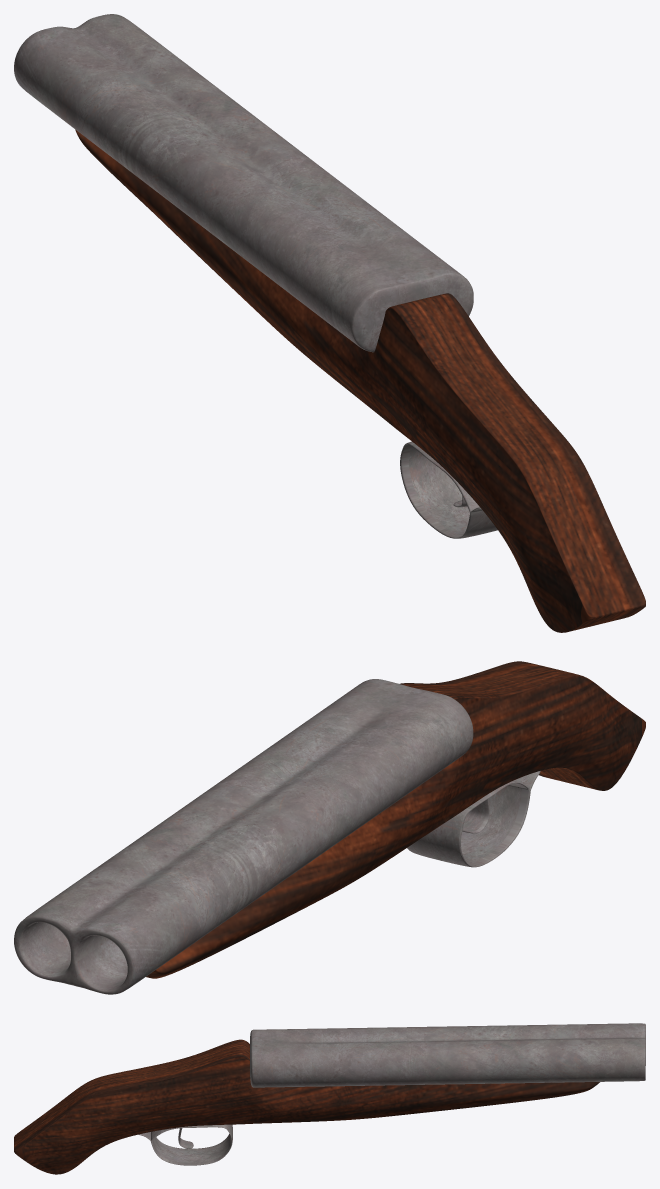
The model's file is doublebarrel.fbx.
3 renders of one model, top to bottom at view 1: azimuth 30°, elevation 25°; view 2: azimuth 150°, elevation 25°; view 3: azimuth 270°, elevation 25°, orthographic. The views are drawn at different scales.
Visible parts, largest first — view 1: Barrel+Release, Shotgun_Cube; view 2: Barrel+Release, Shotgun_Cube; view 3: Shotgun_Cube, Barrel+Release.
Part boxes in pixels (x1=…): Barrel+Release: x1=14, y1=14, x2=497, y2=538; Shotgun_Cube: x1=75, y1=129, x2=645, y2=632; Barrel+Release: x1=14, y1=679, x2=540, y2=994; Shotgun_Cube: x1=146, y1=661, x2=645, y2=978; Shotgun_Cube: x1=14, y1=1039, x2=599, y2=1174; Barrel+Release: x1=138, y1=1023, x2=645, y2=1165.
Size of the model in its own units: 0.5459 by 0.9738 by 4.21.
Materials: 2 (2 with a texture image).
